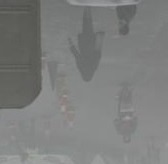person: (69, 3, 105, 83), (113, 112, 140, 144), (112, 5, 139, 36)
